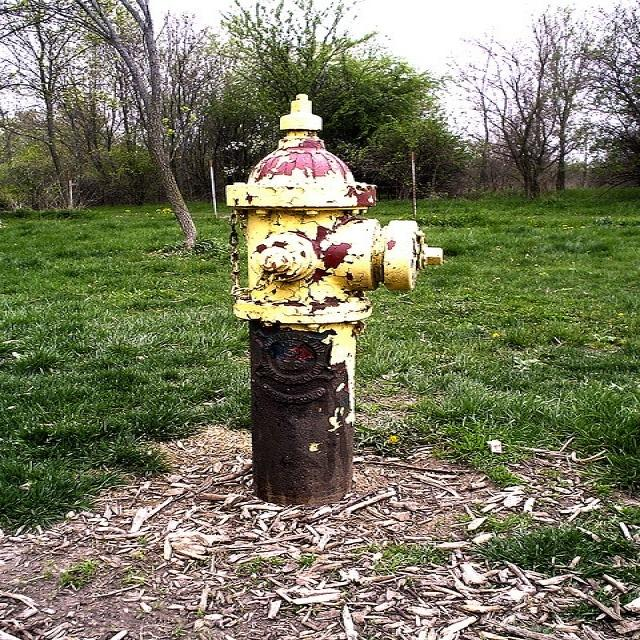fire_hydrant: (202, 127, 448, 552)
